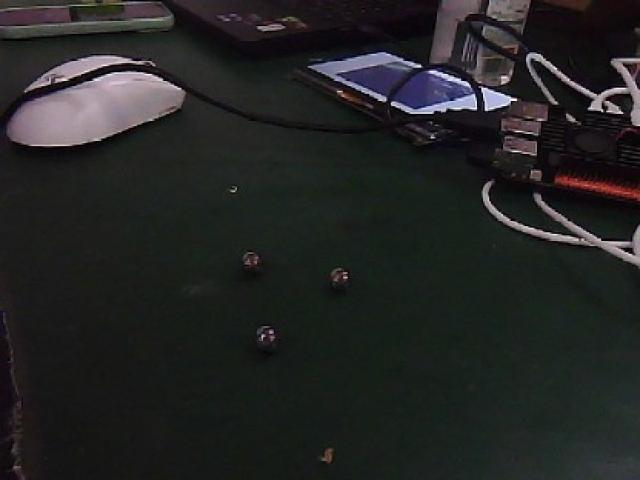steel-ball: (317, 248, 349, 297), (243, 312, 282, 351), (234, 236, 268, 278)
